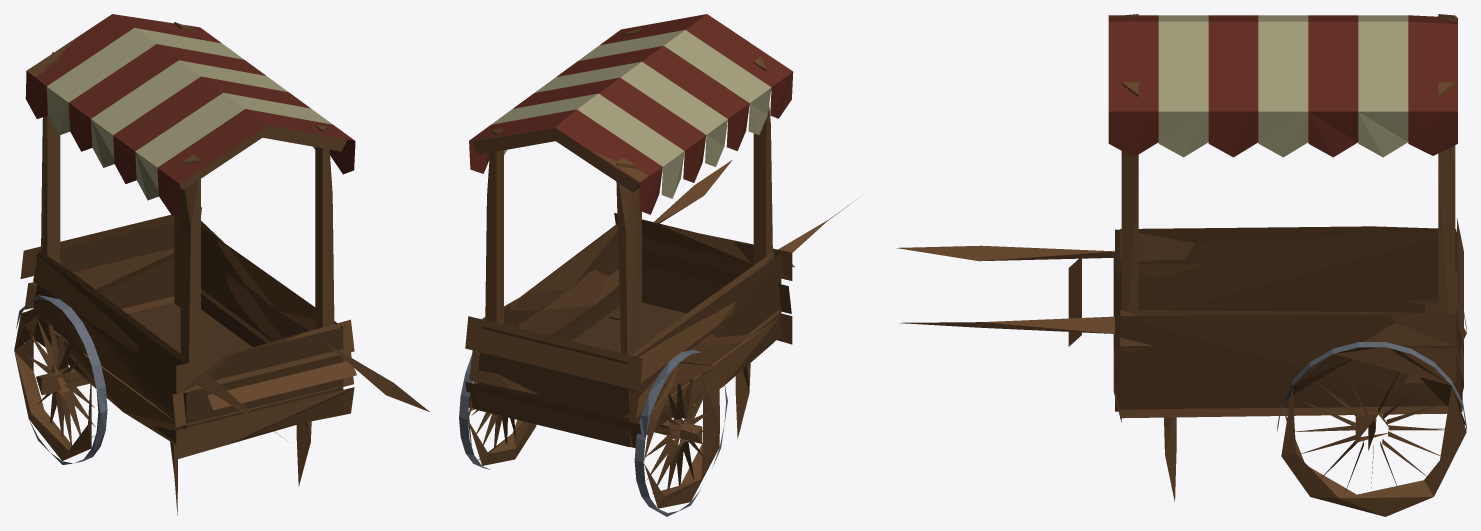
Rendered from Cart.glb.
3 renders of one model, left to right at view 1: azimuth 30°, elevation 25°; view 2: azimuth 150°, elevation 25°; view 3: azimuth 270°, elevation 25°, orthographic. The views are drawn at different scales.
Visible parts, largest first — view 1: Cart; view 2: Cart; view 3: Cart.
Part boxes in pixels (x1,y1,x2,y2): Cart: (14,14,429,515); Cart: (459,14,856,516); Cart: (896,14,1466,516).
Size of the model in its own units: 0.462 by 0.7961 by 0.9201.
